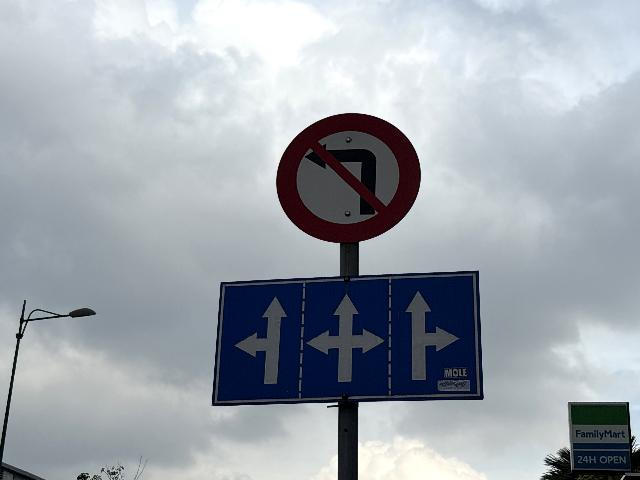cam-re-trai: (274, 111, 422, 243)
